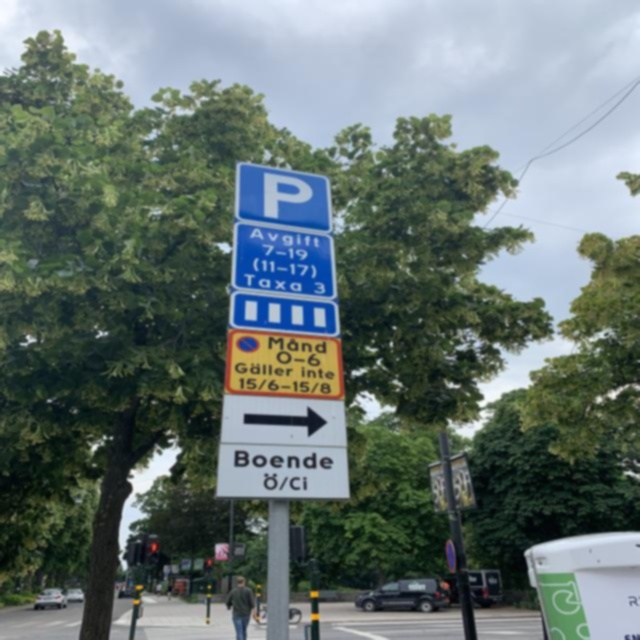P-skylt: (232, 158, 338, 236)
